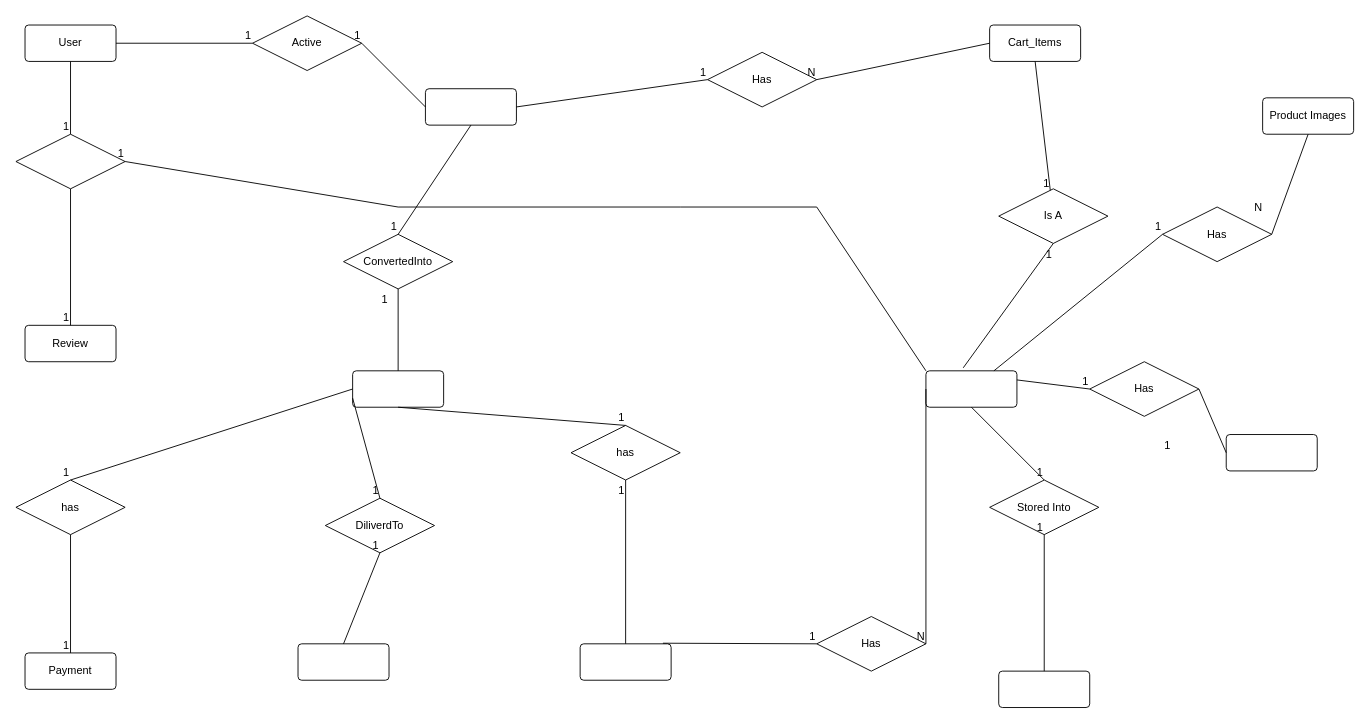
Image size: 1370x723. Some labels were removed from this diagram. The centre of each missing label's shape, as x and y in pixels:
"Cart" goes at point (470, 106).
"Category" goes at point (1271, 452).
"Give" goes at point (70, 161).
"Inventory" goes at point (1044, 689).
"Order" goes at point (398, 388).
"OrderDetails" goes at point (625, 661).
"Product" goes at point (971, 388).
"Shipping Address" goes at point (343, 661).
